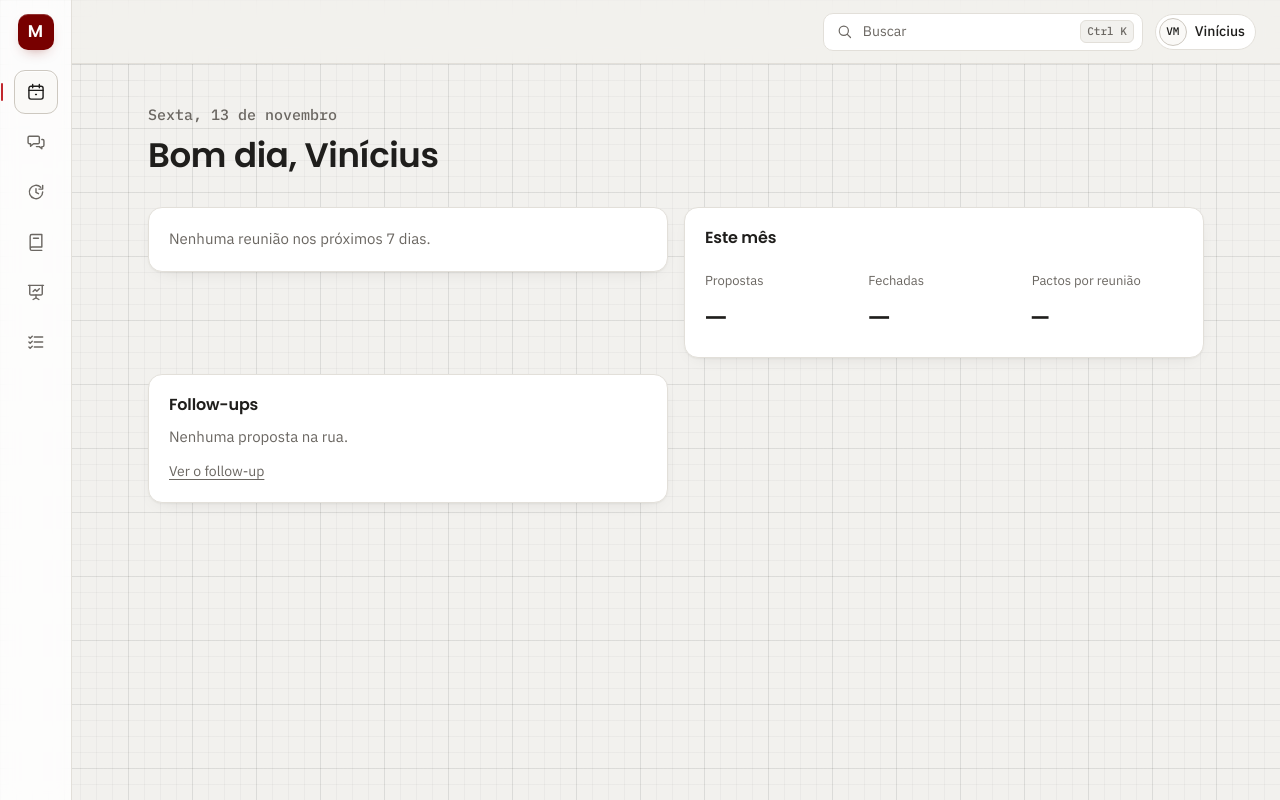
Test: perfil mostra nome, cargo, tema e o link de sair do Access
Click the button with aria-label "Perfil" at [1205, 32], box [1155,14,1256,50]
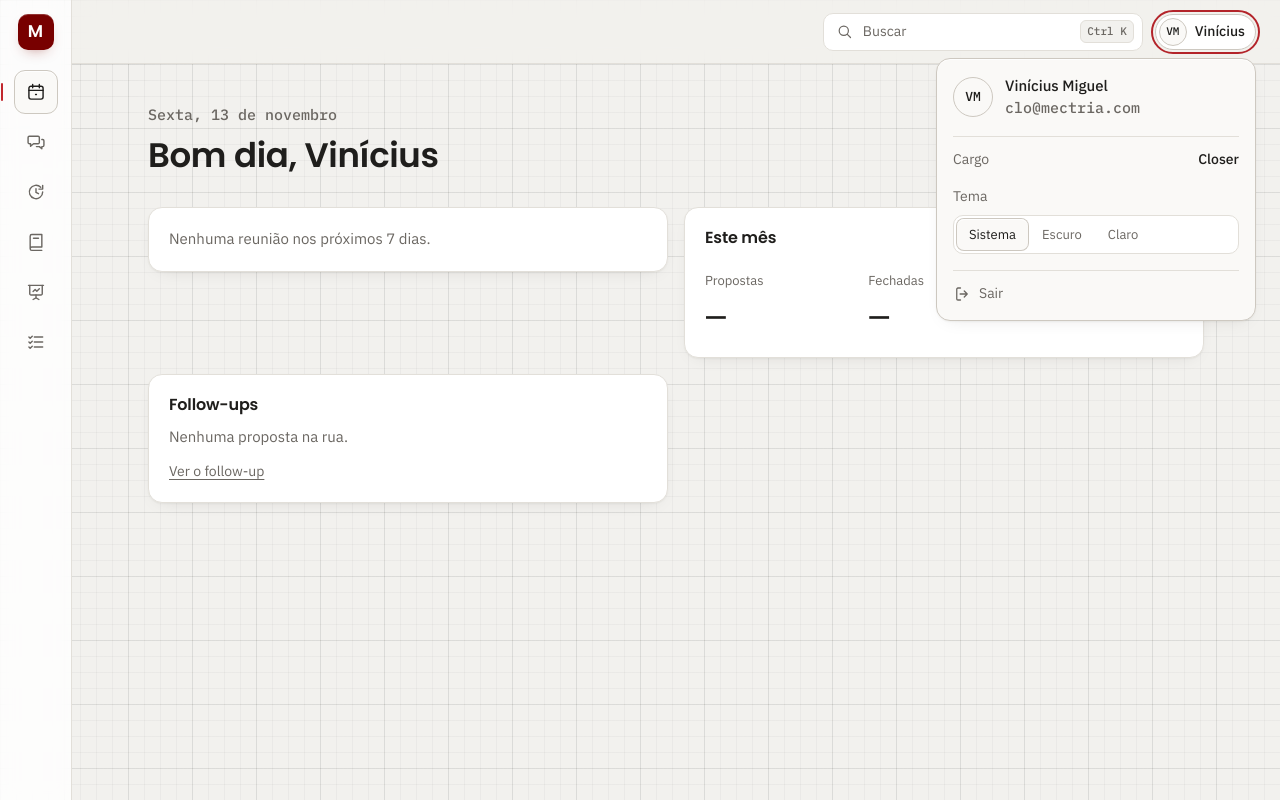
Now the text "Vinícius Miguel" is shown, box [1005,76,1108,94]
Now the text "Closer" is shown, box [1198,148,1239,170]
Now the element "tema" is shown, box [953,214,1239,254]
